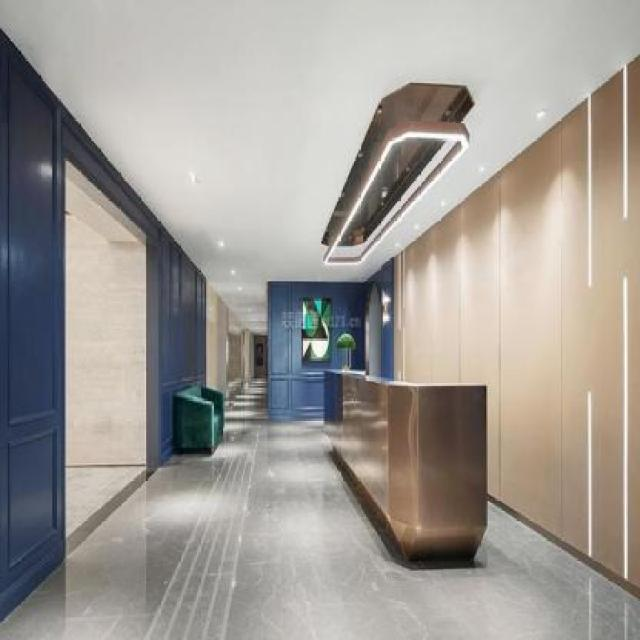frontdesk: (315, 360, 494, 575)
